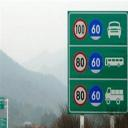speed_limit_100: (73, 17, 87, 42)
speed_limit_80: (72, 51, 88, 75), (73, 84, 88, 106)
